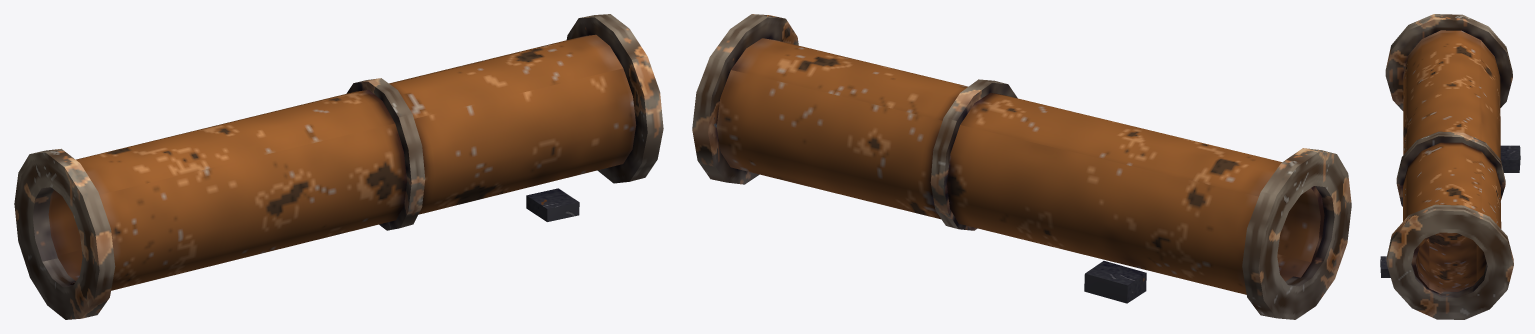
The model's file is LogPipe.glb.
3 renders of one model, left to right at view 1: azimuth 30°, elevation 25°; view 2: azimuth 150°, elevation 25°; view 3: azimuth 270°, elevation 25°, orthographic. The views are drawn at different scales.
Visible parts, largest first — view 1: Pipe, Flanges, Rubble; view 2: Pipe, Flanges, Rubble; view 3: Pipe, Flanges, Rubble.
Boxes of the visible parts, x1,y1,x2,y2 form: Pipe: [48, 34, 636, 290]; Flanges: [14, 14, 663, 319]; Rubble: [526, 188, 579, 221]; Pipe: [716, 38, 1324, 294]; Flanges: [692, 14, 1351, 319]; Rubble: [714, 123, 1146, 303]; Pipe: [1403, 30, 1501, 294]; Flanges: [1385, 14, 1513, 319]; Rubble: [1380, 145, 1520, 277].
Size of the model in its own units: 5.21 by 1.35 by 1.56.
Materials: 3 (3 with a texture image).
